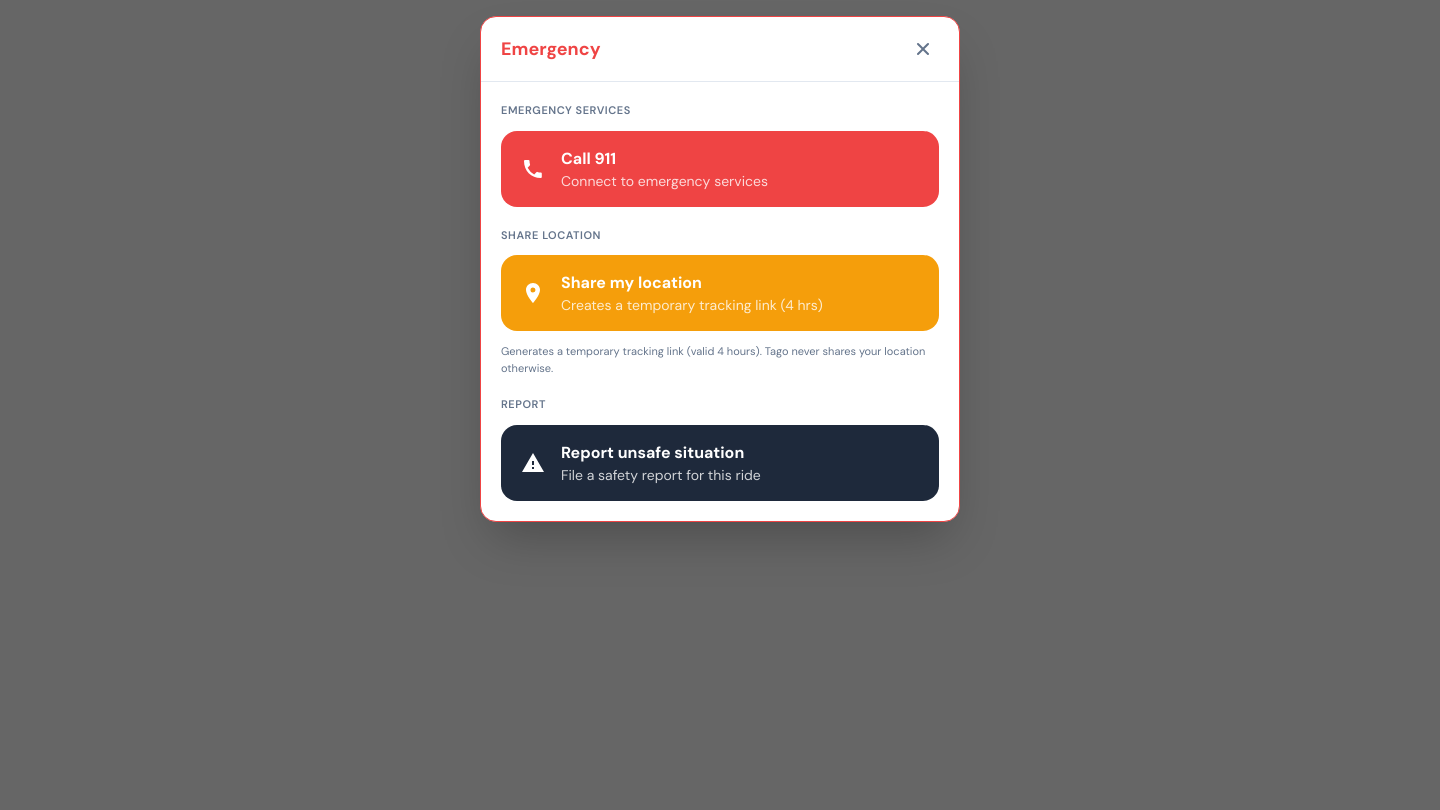
Test: EmergencySheet › renders the Stop sharing row only after a share link is created, and DELETEs the token on tap
Click the button with test id "emergency-share-location".
click(720, 293)  # box left=501, top=255, right=939, bottom=331
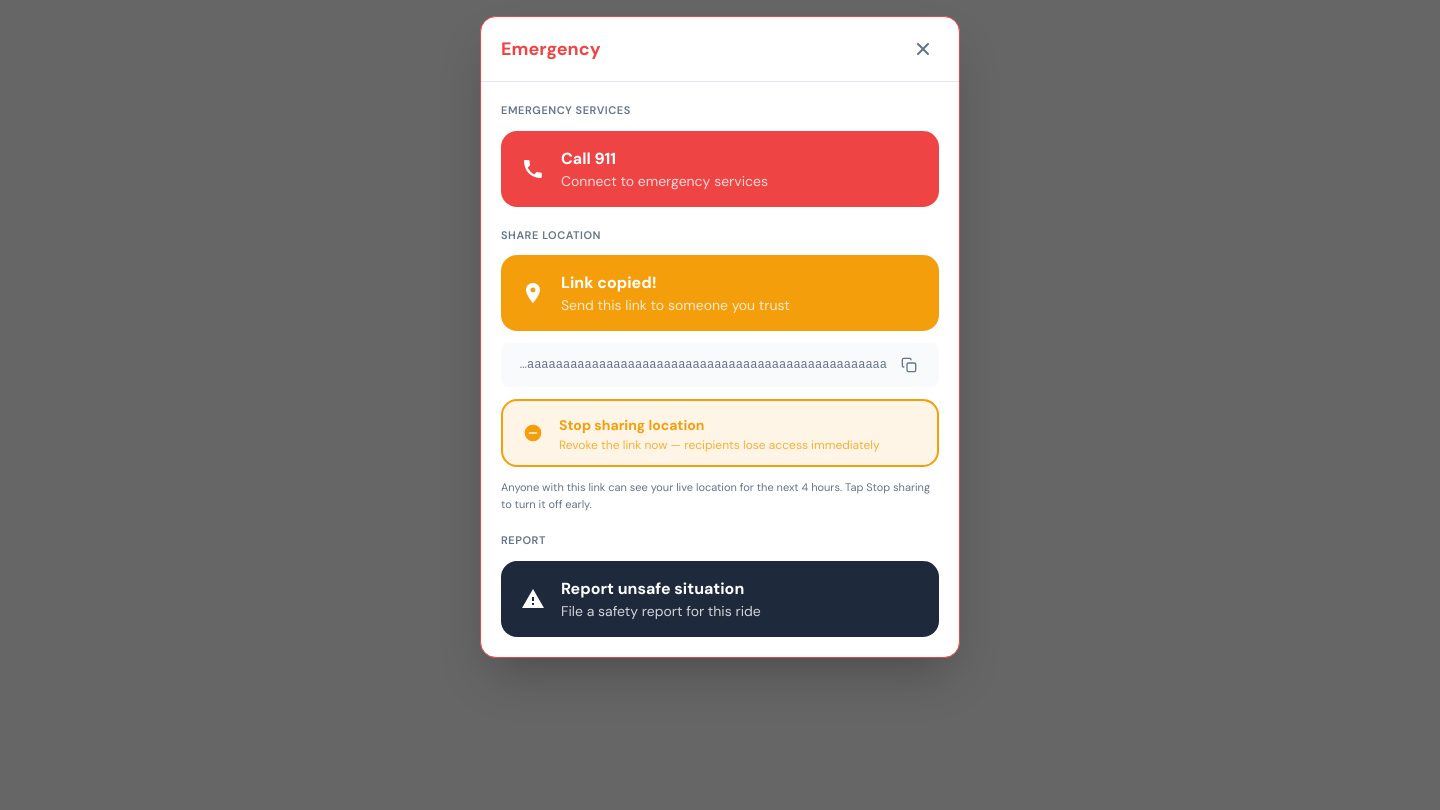
Expected: the button with test id "emergency-stop-sharing" is shown
Click the button with test id "emergency-stop-sharing".
click(632, 425)  # box left=501, top=399, right=939, bottom=467
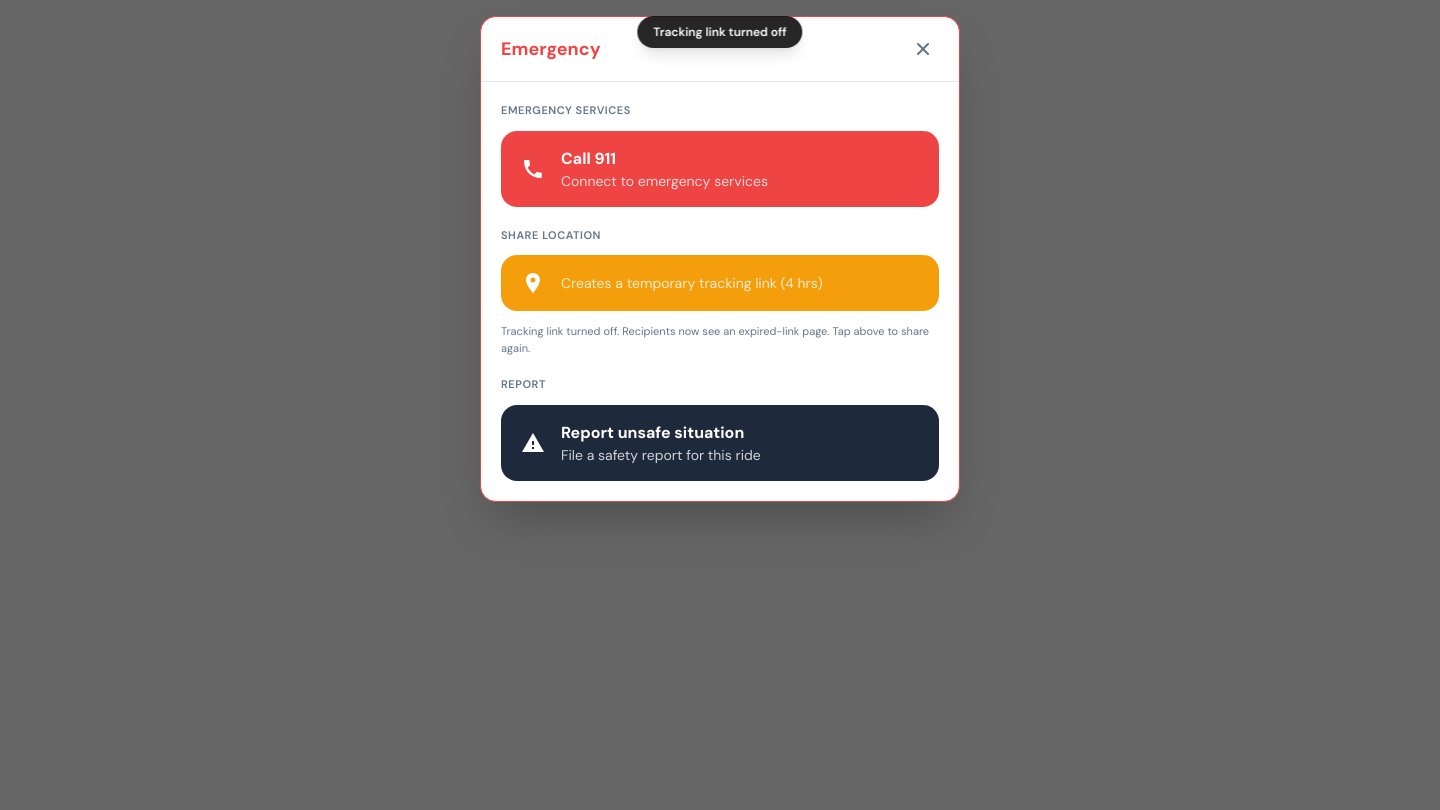
Expected: the button with test id "emergency-stop-sharing" is gone
